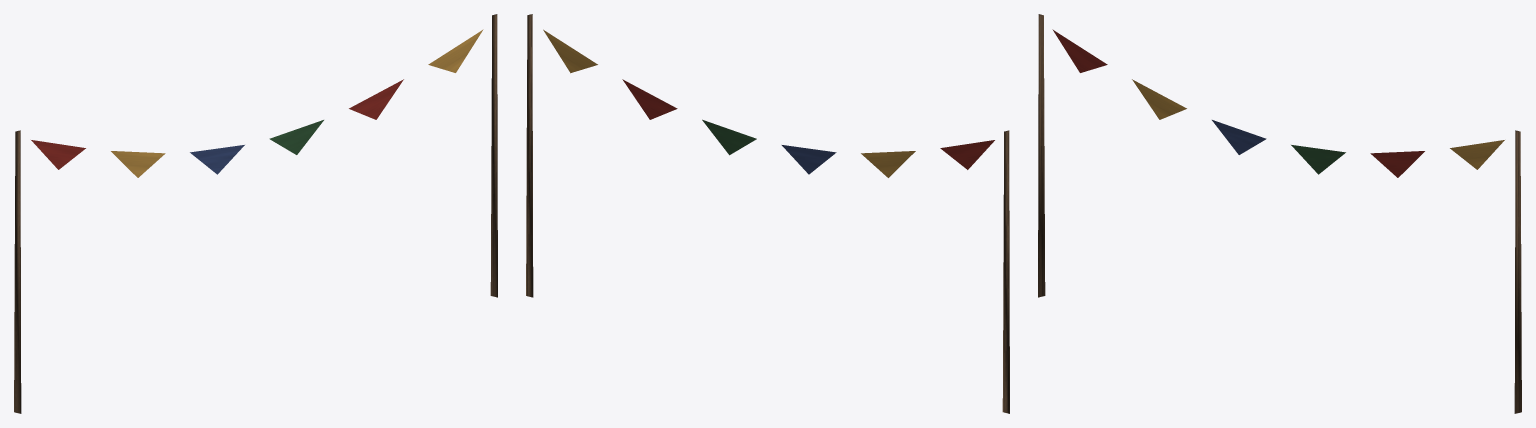
The model's file is Bunting_Garland_1_LOD2.gltf.
3 views of the same model, side by side, from view 1: azimuth 30°, elevation 25°; view 2: azimuth 150°, elevation 25°; view 3: azimuth 330°, elevation 25° (orthographic).
Parts seen in each view (by area): view 1: Bunting_Garland_1_LOD2; view 2: Bunting_Garland_1_LOD2; view 3: Bunting_Garland_1_LOD2.
Part boxes in pixels (x1,y1,x2,y2): Bunting_Garland_1_LOD2: (14,14,497,413); Bunting_Garland_1_LOD2: (526,14,1009,413); Bunting_Garland_1_LOD2: (1038,14,1521,413).
Bounding box in the file's own units: 8.12 × 4.5 × 0.105.
5 materials, 5 textured.
